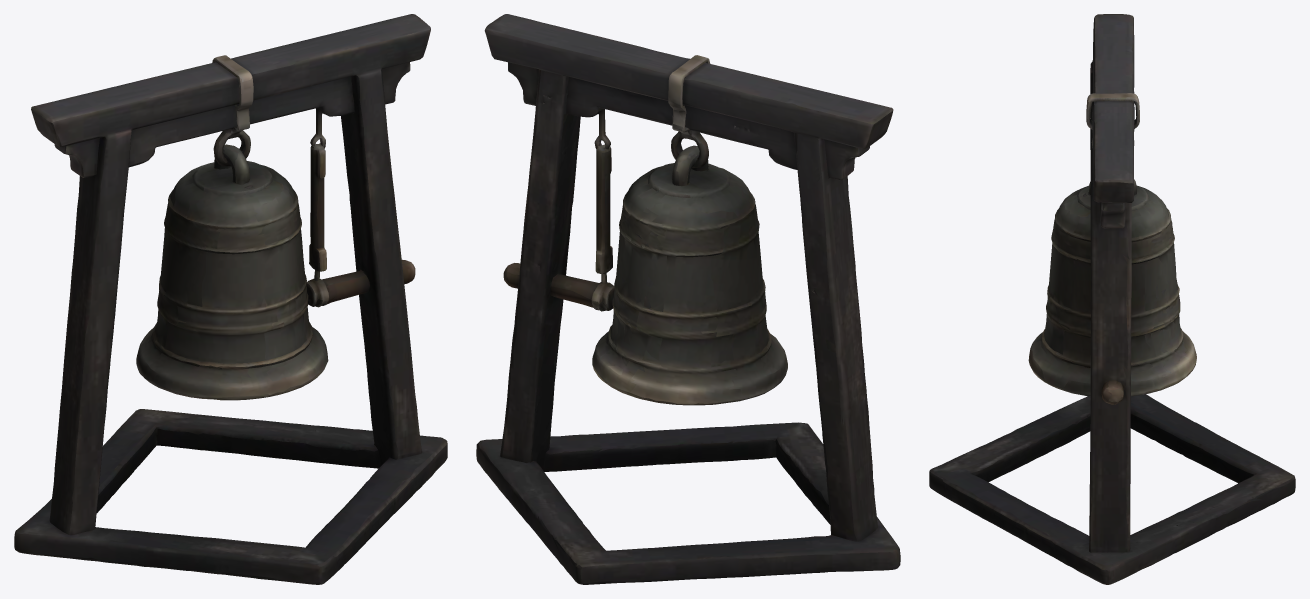
The model's file is PROP-004.glb.
The picture shows the model from 3 angles, left to right: view 1: azimuth 30°, elevation 25°; view 2: azimuth 150°, elevation 25°; view 3: azimuth 270°, elevation 25°; orthographic projection. The views are drawn at different scales.
Parts seen in each view (by area): view 1: world; view 2: world; view 3: world.
Part boxes in pixels (x1,y1,x2,y2): world: (14, 14, 447, 584); world: (476, 14, 900, 584); world: (929, 14, 1295, 584).
Bounding box in the file's own units: 0.3494 × 0.35 × 0.2918.
1 material, 1 textured.
